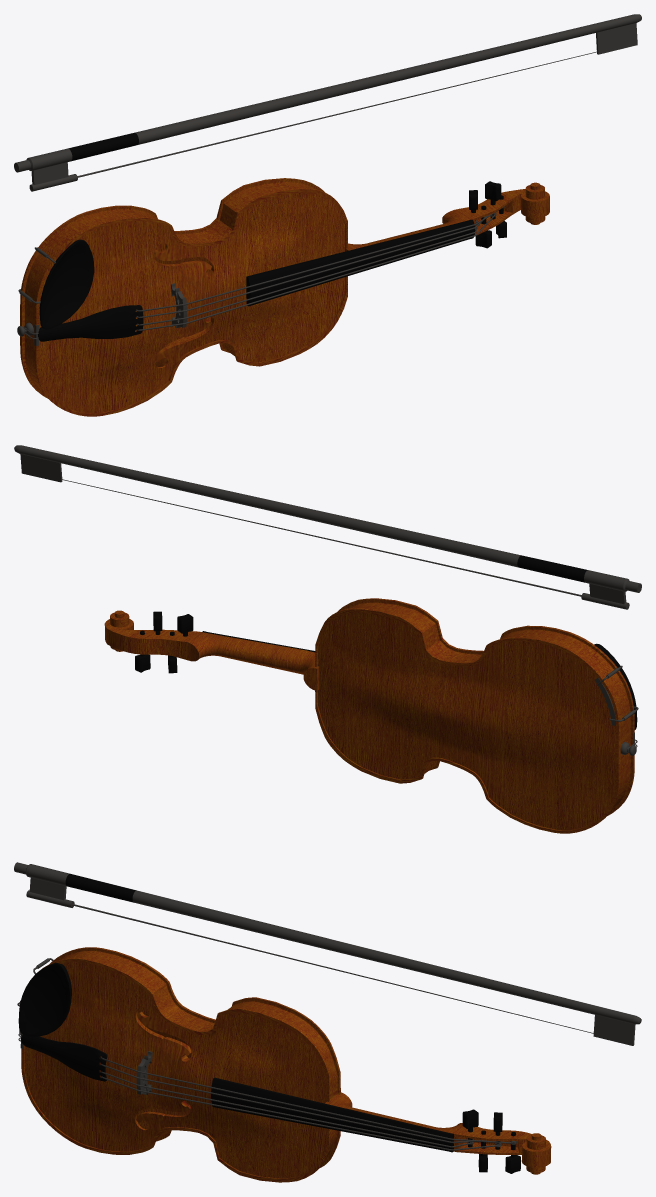
Rendered from 10397_Violin_L1.obj.
The picture shows the model from 3 angles, top to bottom: view 1: azimuth 30°, elevation 25°; view 2: azimuth 150°, elevation 25°; view 3: azimuth 330°, elevation 25°; orthographic projection.
Parts seen in each view (by area): view 1: Body, Metal, Black; view 2: Body, Metal, Black; view 3: Body, Metal, Black.
Part boxes in pixels (box(x1,y1,x2,y2)): Body: box(20, 178, 549, 416); Metal: box(14, 14, 641, 345); Black: box(38, 132, 506, 341); Body: box(104, 598, 634, 833); Metal: box(14, 445, 641, 755); Black: box(135, 555, 637, 741); Body: box(21, 947, 551, 1182); Metal: box(14, 862, 641, 1150); Black: box(18, 873, 520, 1173).
Size of the model in its own units: 36.62 by 14.88 by 4.03.
3 materials, 1 textured.
